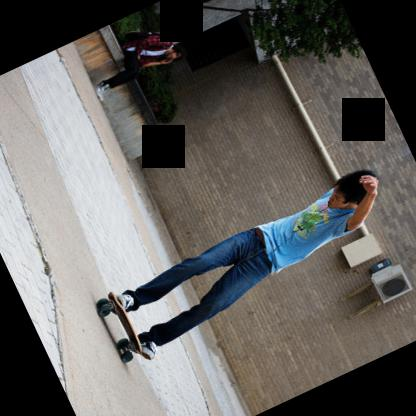backpack: (124, 31, 178, 44)
